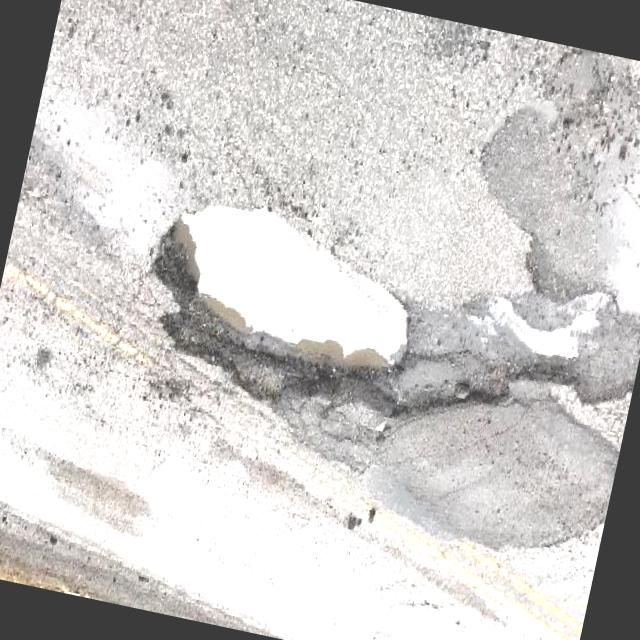pothole: (126, 187, 437, 440), (502, 271, 640, 424)
